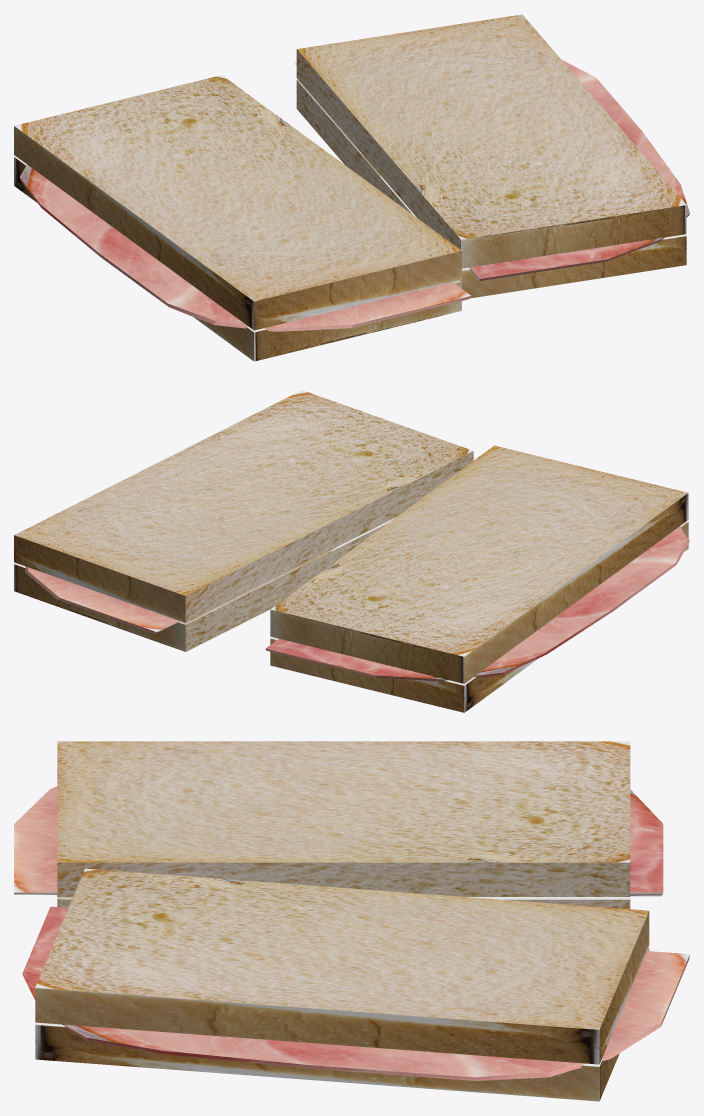
The model's file is Sandwhich.FBX.
The picture shows the model from 3 angles, top to bottom: view 1: azimuth 30°, elevation 25°; view 2: azimuth 150°, elevation 25°; view 3: azimuth 270°, elevation 25°; orthographic projection. The views are drawn at different scales.
Parts seen in each view (by area): view 1: Box002, Box006, Box003, Box005, Box007, Box004; view 2: Box006, Box002, Box003, Box005, Box004, Box007; view 3: Box006, Box002, Box007, Box005, Box003, Box004.
Part boxes in pixels (<box>): Box002: <box>14,75,461,330</box>; Box006: <box>296,14,686,268</box>; Box003: <box>20,164,471,331</box>; Box005: <box>296,80,686,298</box>; Box007: <box>294,60,689,280</box>; Box004: <box>14,156,461,361</box>; Box006: <box>14,390,473,622</box>; Box002: <box>270,445,688,683</box>; Box003: <box>265,526,689,681</box>; Box005: <box>14,517,395,651</box>; Box004: <box>270,521,688,712</box>; Box007: <box>25,566,179,633</box>; Box006: <box>35,868,649,1064</box>; Box002: <box>57,741,630,896</box>; Box007: <box>22,906,689,1080</box>; Box005: <box>35,947,649,1101</box>; Box003: <box>14,786,663,896</box>; Box004: <box>57,897,630,909</box>.
Bounding box in the file's own units: 78.52 × 8.14 × 69.66.
2 materials, 2 textured.
